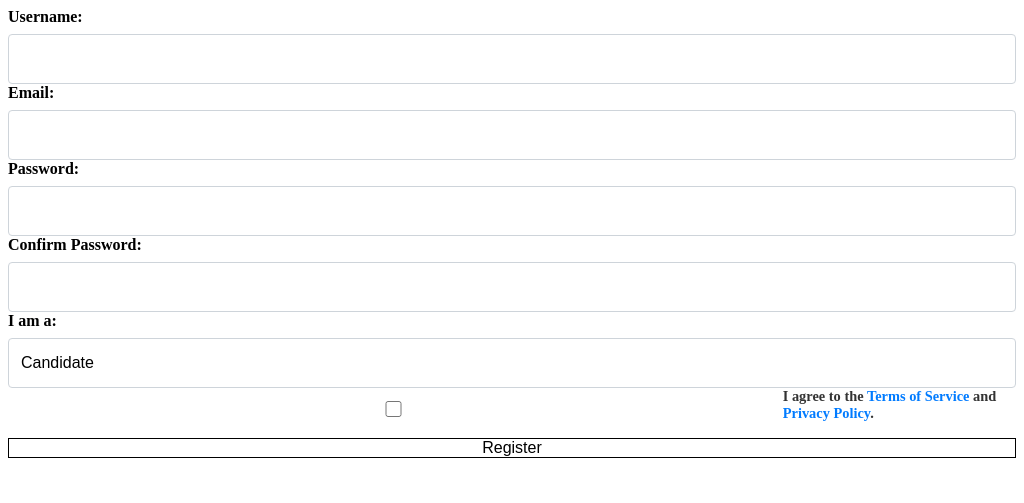
Scenario: RegistrationForm Component › should display a password strength indicator when typing in the password field
Type "short" into the password field labelled "Password:" at (512, 211), box [8,186,1016,236]
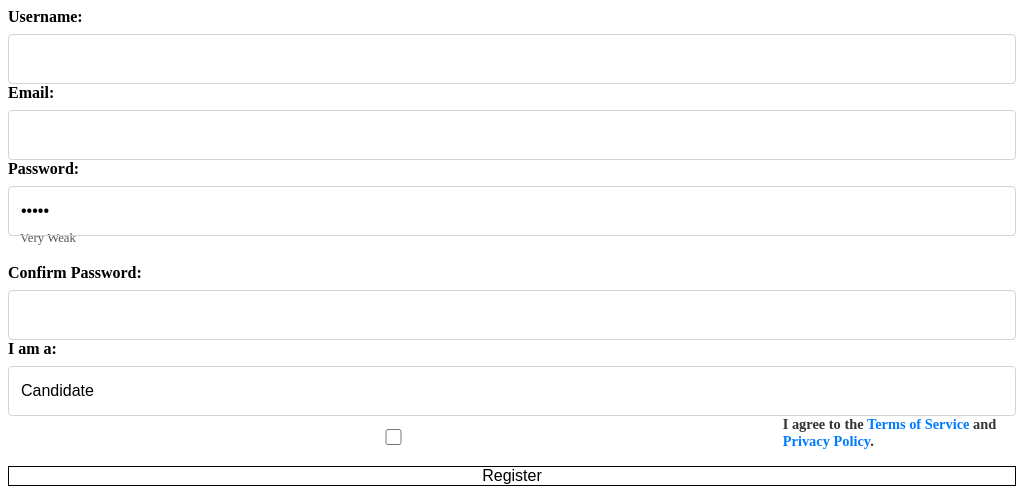
Expected: the text "Very Weak" is shown, [20,230,76,244]
Type "StrongPassword123!" into the password field labelled "Password:" at (512, 211), box [8,186,1016,236]
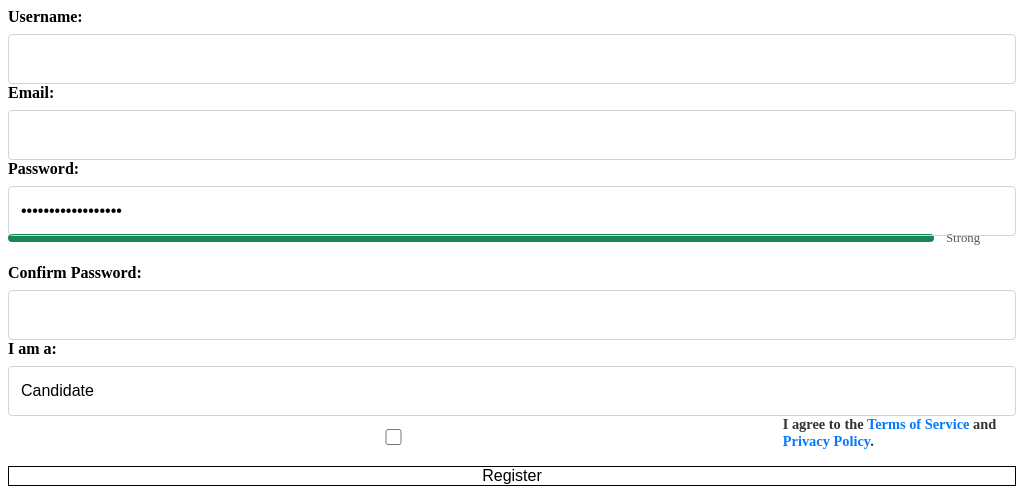
Expected: the text "Strong" is shown, [946,230,980,244]
